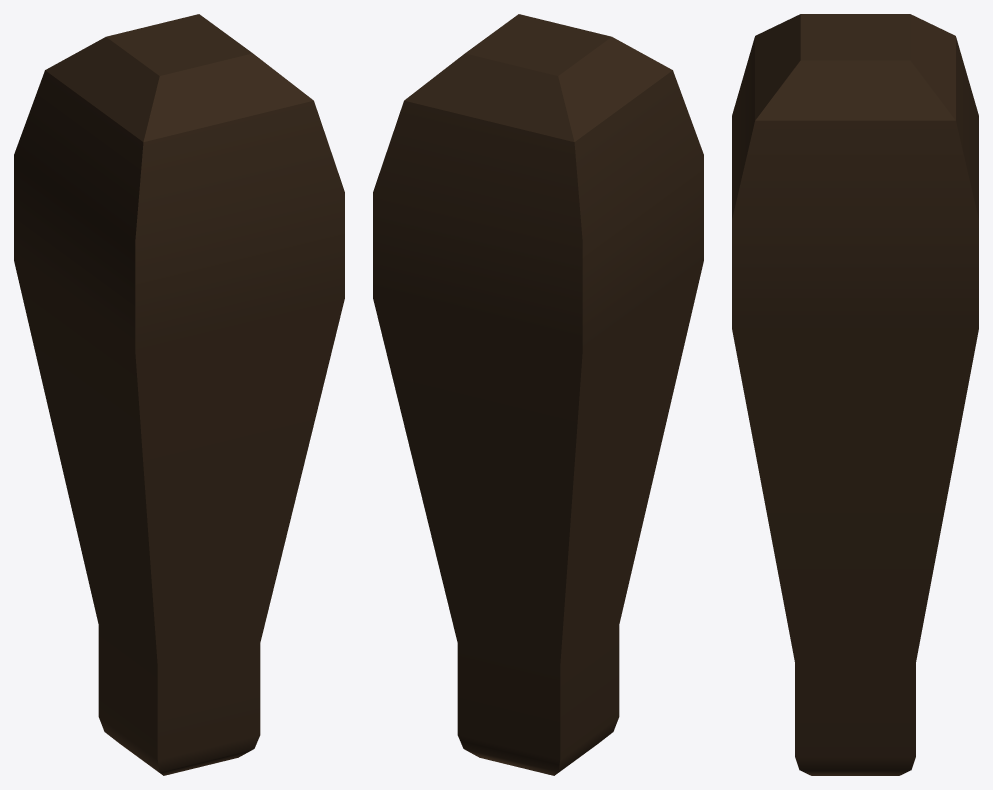
File: Pentungan Kayu.fbx
3 views of the same model, side by side, from view 1: azimuth 30°, elevation 25°; view 2: azimuth 150°, elevation 25°; view 3: azimuth 270°, elevation 25° (orthographic). The views are drawn at different scales.
Visible parts, largest first — view 1: Cube.006; view 2: Cube.006; view 3: Cube.006.
Boxes of the visible parts, bbox=[...] form: Cube.006: bbox=[14, 14, 344, 775]; Cube.006: bbox=[373, 14, 703, 775]; Cube.006: bbox=[732, 14, 978, 775].
Size of the model in its own units: 20.55 by 66.51 by 20.55.
